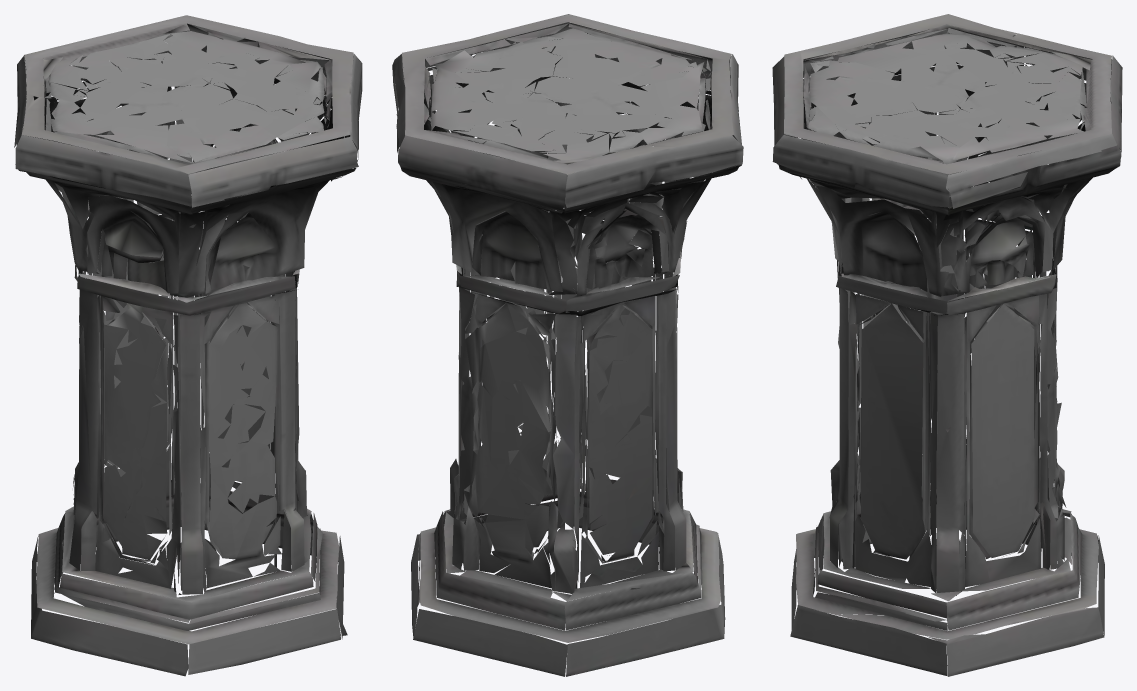
The model's file is lan_artifact_pedestal.glb.
3 renders of one model, left to right at view 1: azimuth 30°, elevation 25°; view 2: azimuth 150°, elevation 25°; view 3: azimuth 270°, elevation 25°, orthographic.
Parts seen in each view (by area): view 1: MetricPlacement; view 2: MetricPlacement; view 3: MetricPlacement.
Boxes of the visible parts, left/top/right/bottom form: MetricPlacement: left=14, top=15, right=362, bottom=676; MetricPlacement: left=392, top=14, right=743, bottom=676; MetricPlacement: left=772, top=14, right=1122, bottom=676.
Bounding box in the file's own units: 0.6424 × 0.9 × 0.5581.
Materials: 1 (1 with a texture image).
